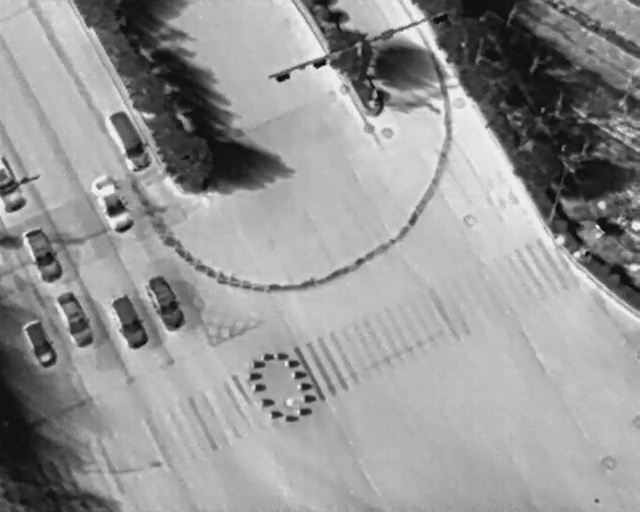Car: (101, 106, 157, 175), (85, 172, 138, 237), (17, 222, 68, 287), (140, 271, 188, 335), (51, 288, 96, 351), (106, 293, 150, 351), (18, 314, 61, 370)
